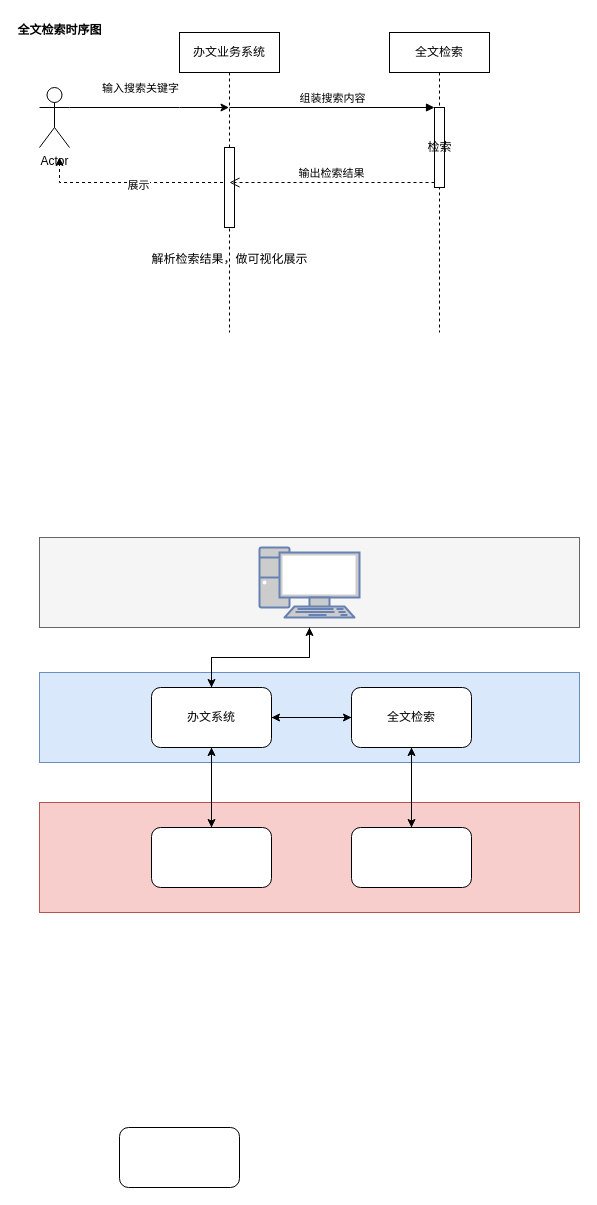
Image size: 597x1205. Some labels were removed from this diagram. The shapes that lost their labels are listed below. From the top down, each one's centre as x and y in pixels, then its label:
At point (211, 857): "DB".
At point (411, 857): "ElasticSearch".
